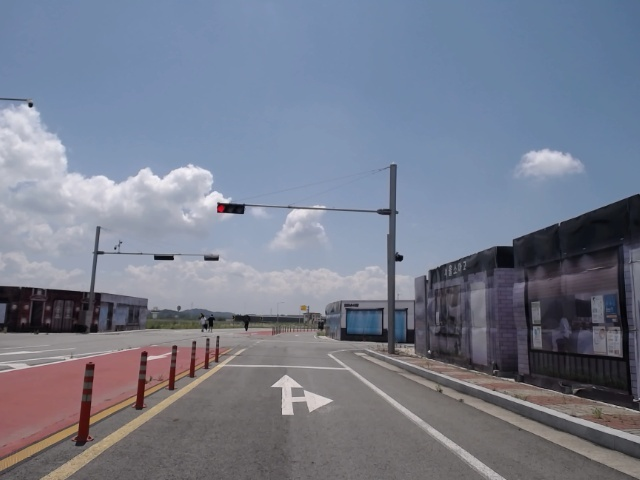red_3: (216, 201, 245, 216)
